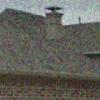chimneys: (45, 5, 63, 39)
